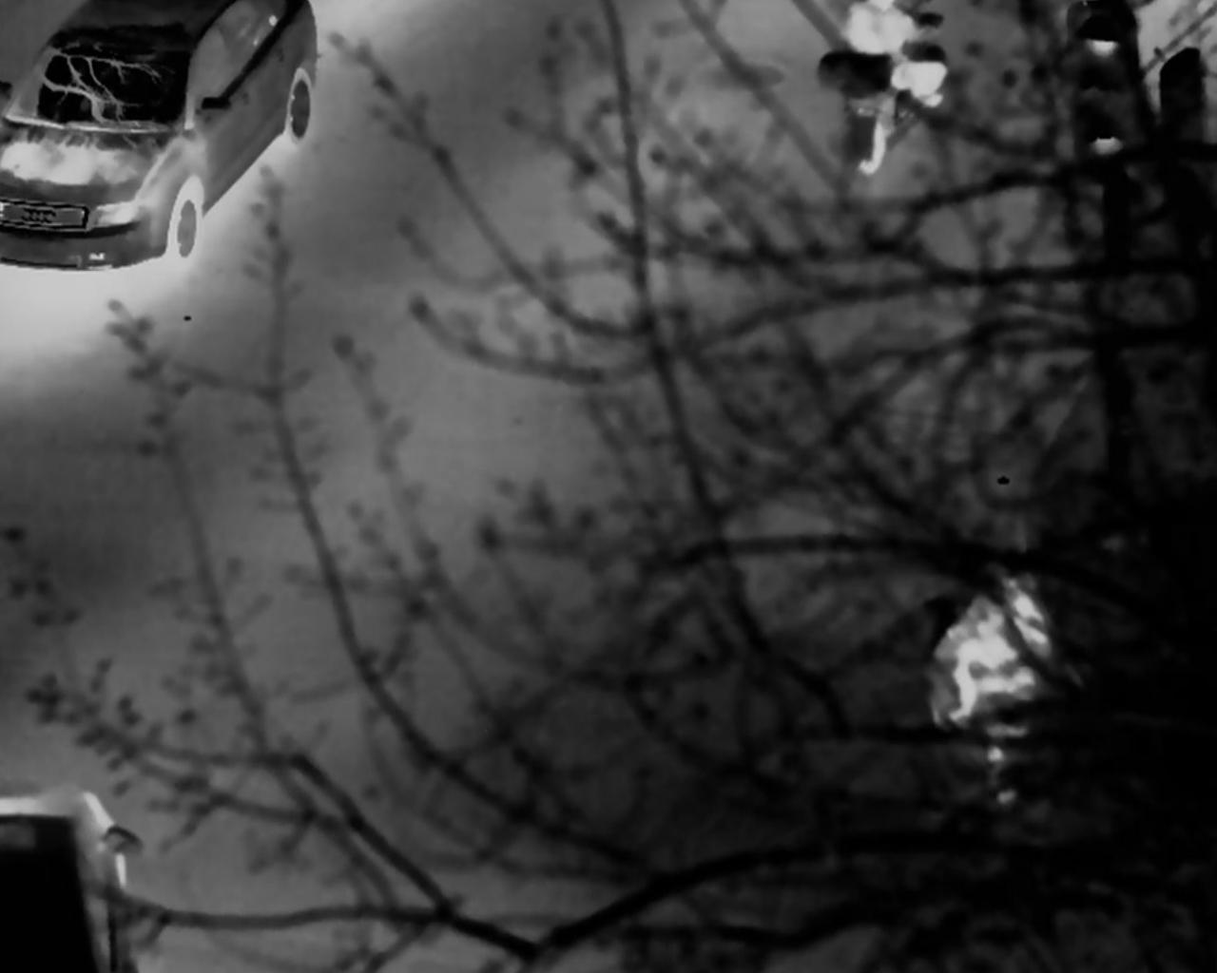person: (925, 553, 1053, 733)
